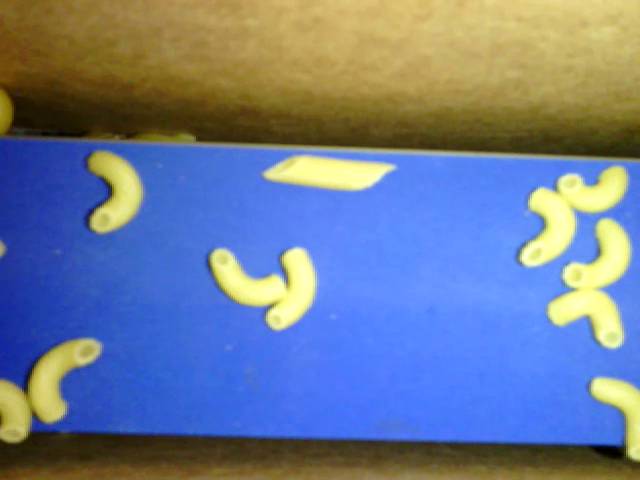elbow: (26, 339, 104, 425), (561, 218, 634, 290), (207, 247, 291, 308), (518, 184, 578, 269), (265, 243, 321, 333), (546, 290, 623, 352), (85, 153, 143, 232), (590, 376, 639, 463), (555, 165, 630, 214), (1, 381, 30, 447)
penne: (259, 155, 398, 194)
